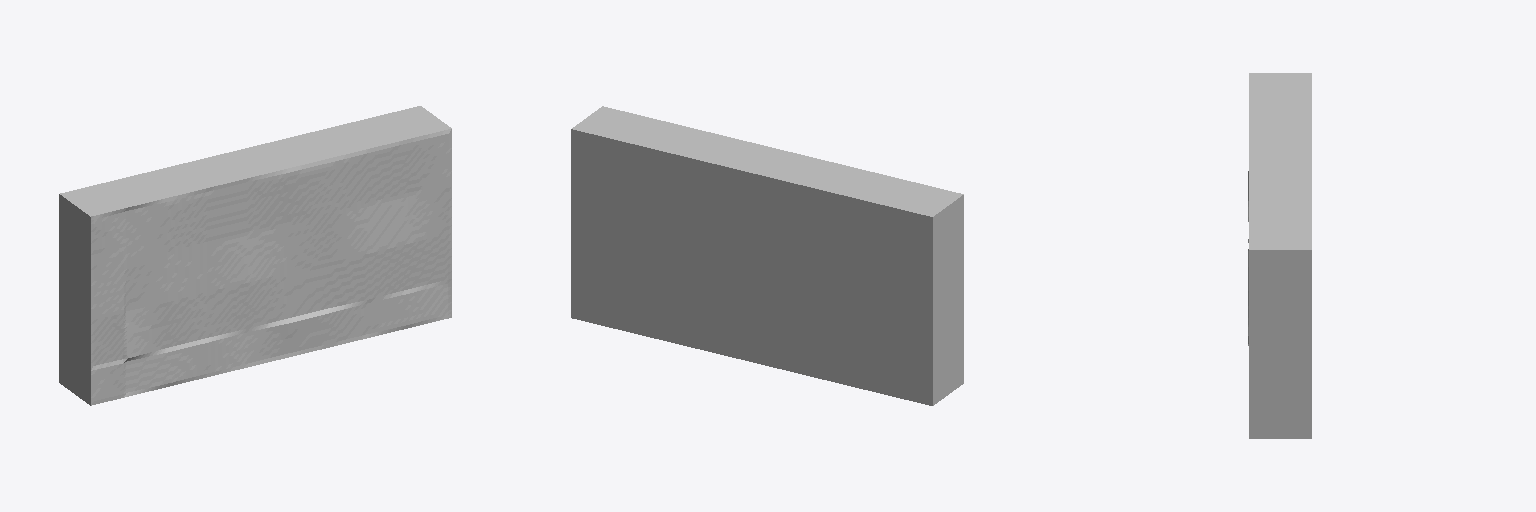
Rendered from rectangular_prism_bumps_9_5.obj.
3 renders of one model, left to right at view 1: azimuth 30°, elevation 25°; view 2: azimuth 150°, elevation 25°; view 3: azimuth 270°, elevation 25°, orthographic.
Size of the model in its own units: 10 by 5 by 1.53.